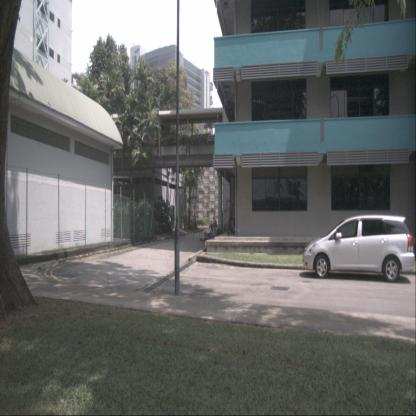vehicle-car: (302, 214, 416, 283)
